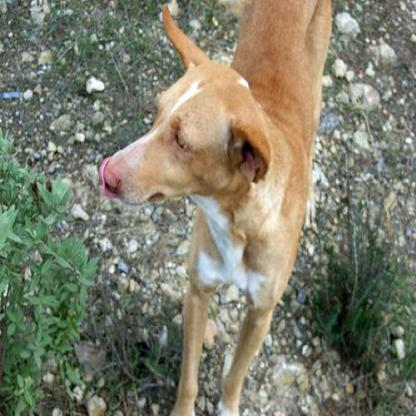dog: (92, 0, 330, 415)
